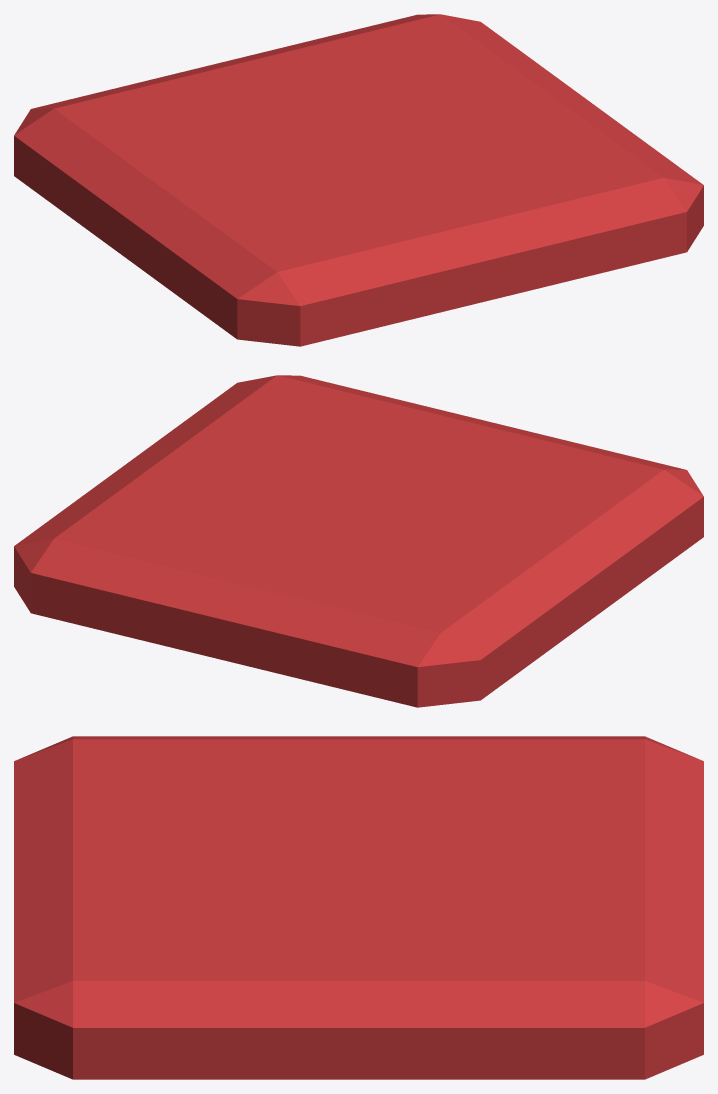
The model's file is CubeHard.fbx.
3 views of the same model, one above another, from view 1: azimuth 30°, elevation 25°; view 2: azimuth 150°, elevation 25°; view 3: azimuth 270°, elevation 25° (orthographic). The views are drawn at different scales.
Visible parts, largest first — view 1: Cube_hard.003; view 2: Cube_hard.003; view 3: Cube_hard.003.
Part boxes in pixels (left/top/right/bottom): Cube_hard.003: left=14, top=14, right=703, bottom=346; Cube_hard.003: left=14, top=375, right=703, bottom=707; Cube_hard.003: left=14, top=736, right=703, bottom=1079.
Bounding box in the file's own units: 0.0797 × 0.0101 × 0.0797.
